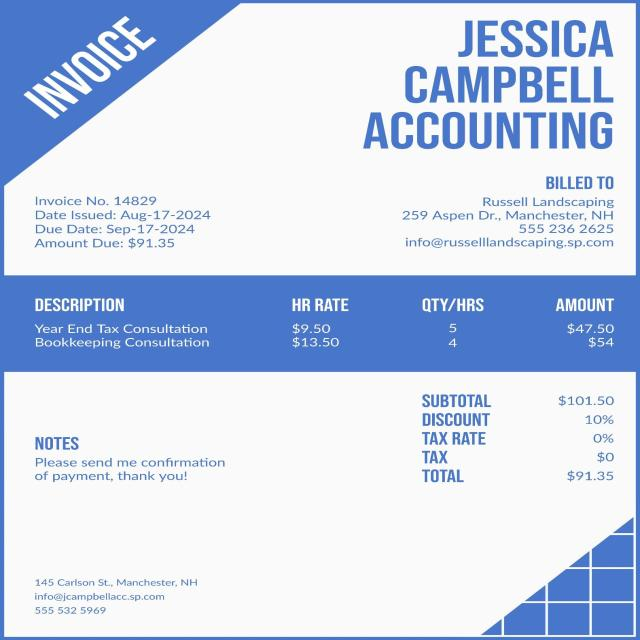paragraph: (352, 9, 625, 155), (409, 379, 625, 497), (397, 166, 625, 252), (7, 9, 173, 122), (28, 420, 237, 489), (24, 190, 214, 253), (23, 569, 210, 623)
table: (20, 286, 632, 361)
